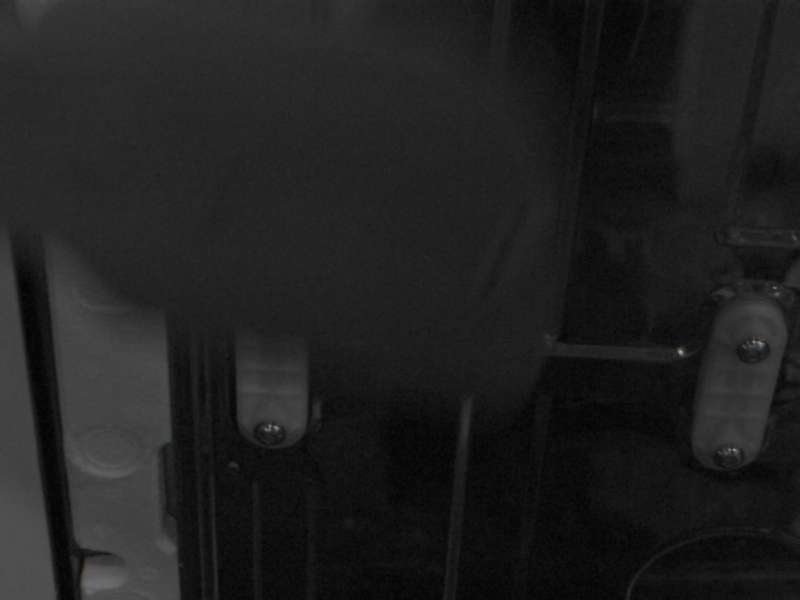screw: (736, 337, 770, 364), (253, 422, 286, 447), (713, 446, 745, 470)
